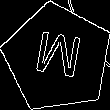M_S: (30, 29, 85, 87)
